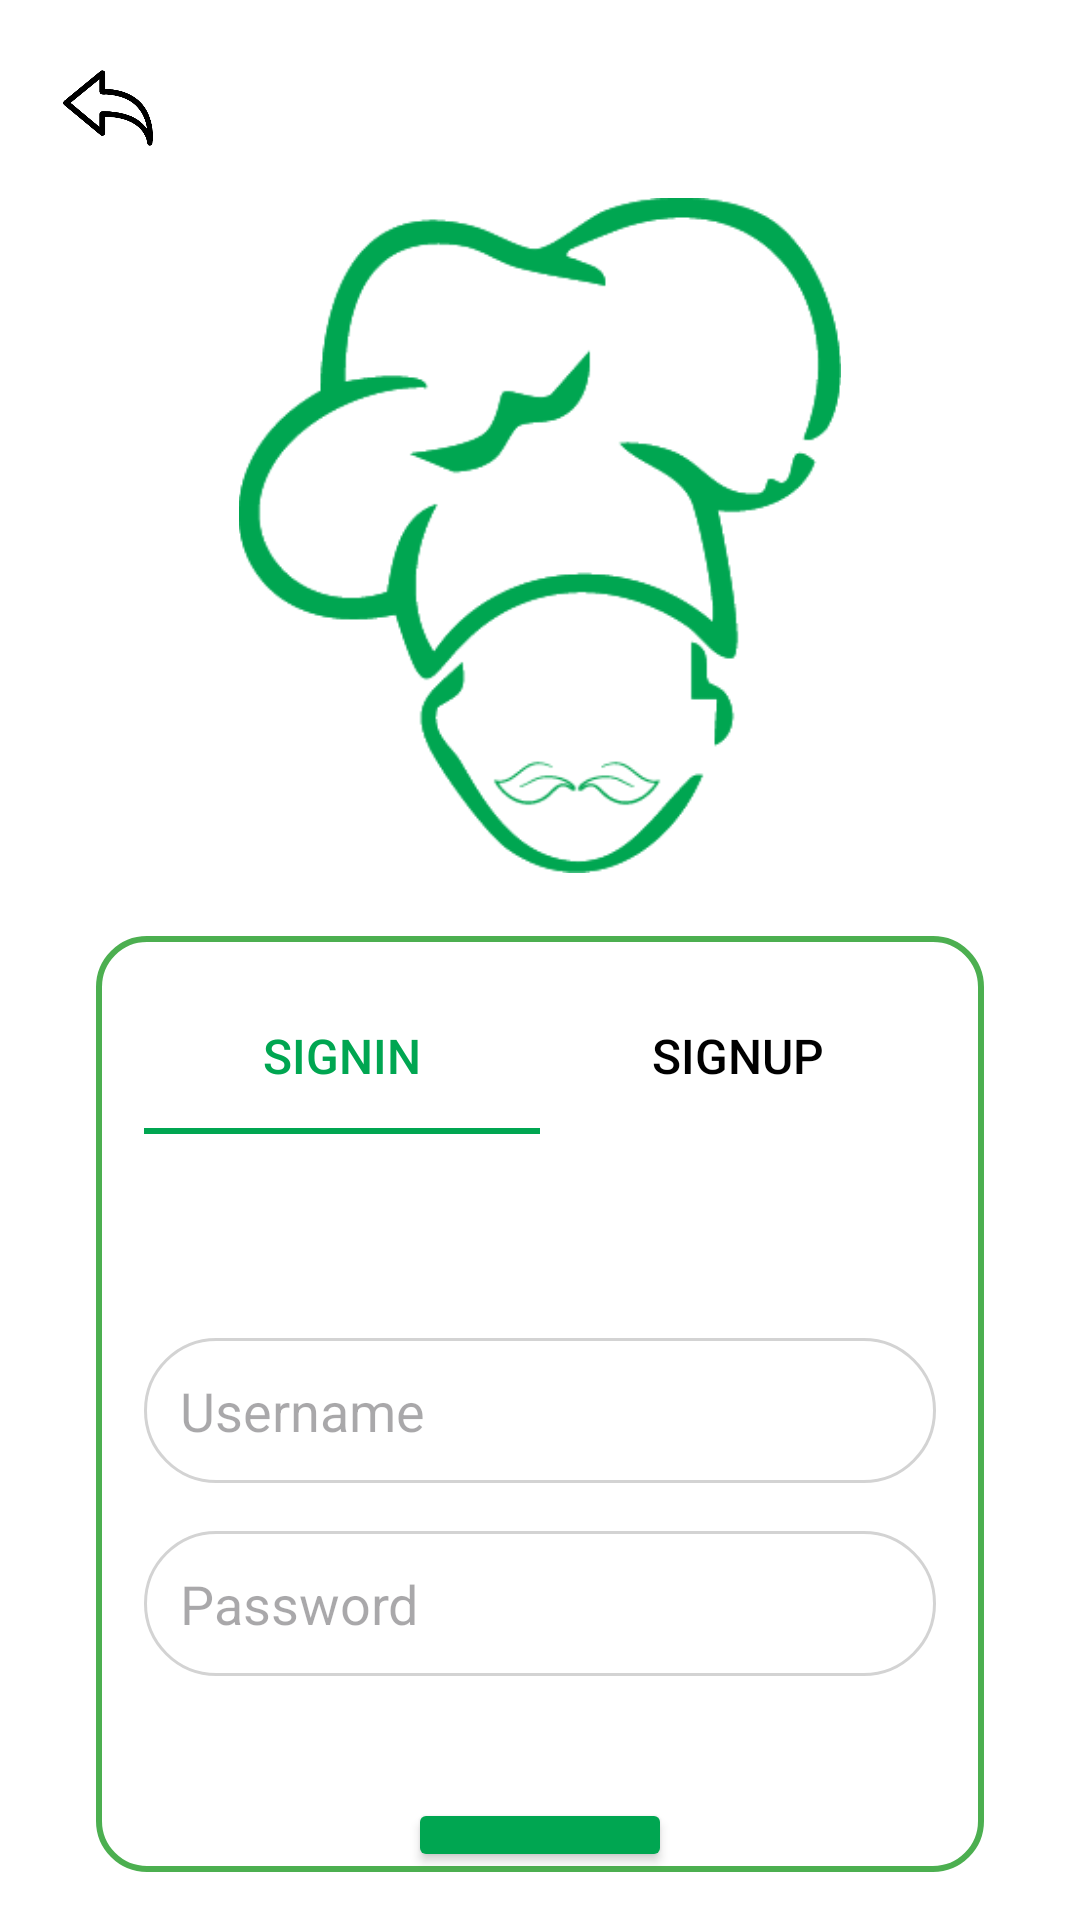

Named icons in this screenshot (1080×1920) and their bounding boxes, (x1, y1, x2, y2):
Back: (63, 70, 153, 146)
